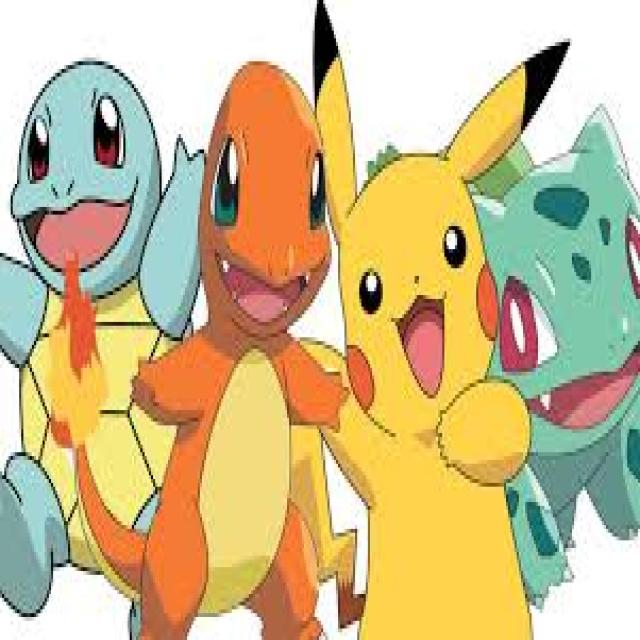Bulbasaur: (486, 140, 638, 594)
Charmander: (162, 67, 335, 640)
Pikachu: (332, 122, 502, 640)
Squirtle: (4, 56, 180, 588)
